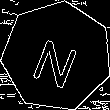N_N: (29, 25, 85, 87)
